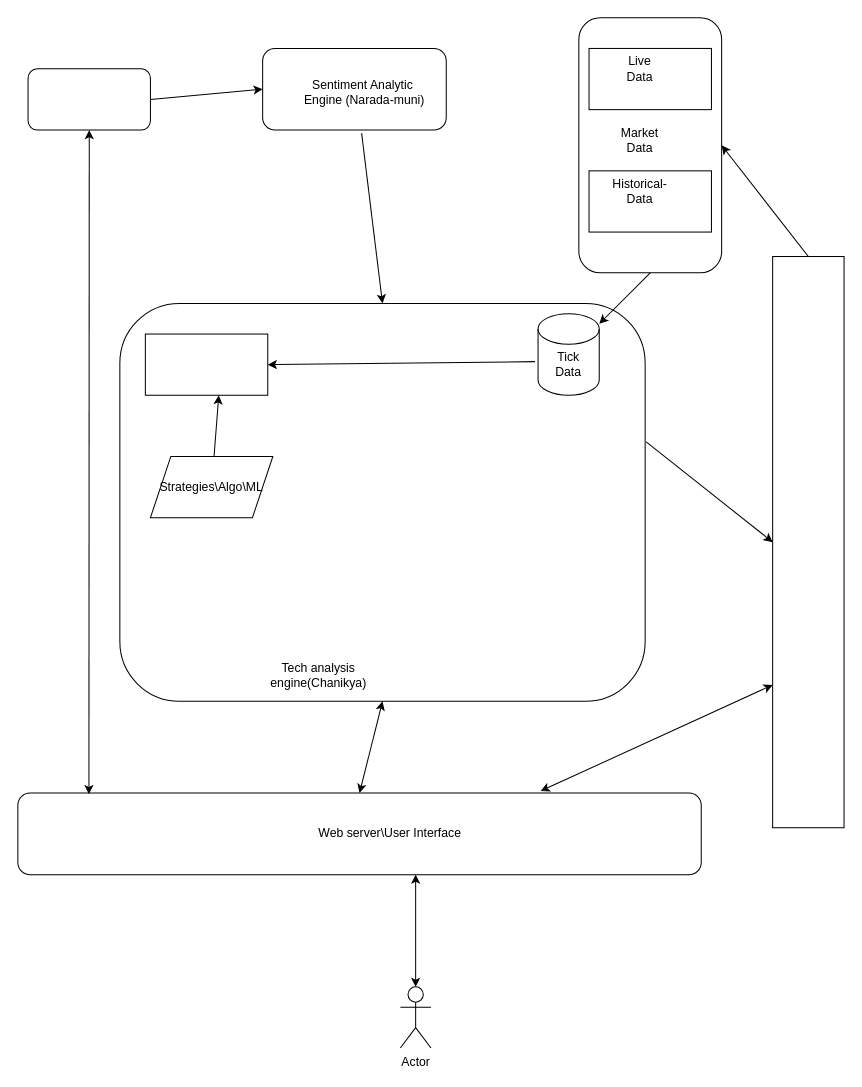
The diagram is 862 pixels wide and 1087 high, and some of its shapes have lost their labels. The shapes that lost their labels are listed below. From the top down, each one's box as (x1, y1, x2, y2) in pixels, then its label:
(27, 68, 150, 130): Stock Screener
(144, 333, 268, 395): Back Testing Engine
(772, 256, 844, 828): Binanace
